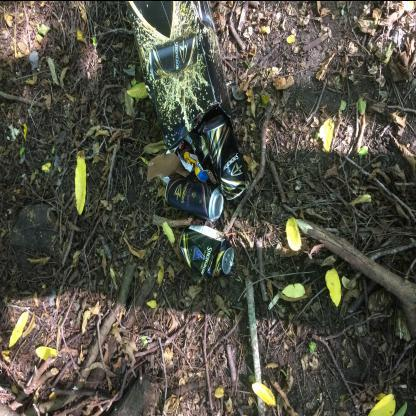karton: (128, 2, 233, 148)
metal: (204, 115, 248, 201), (180, 225, 236, 276), (167, 178, 225, 222)
plastik: (178, 150, 219, 186)
